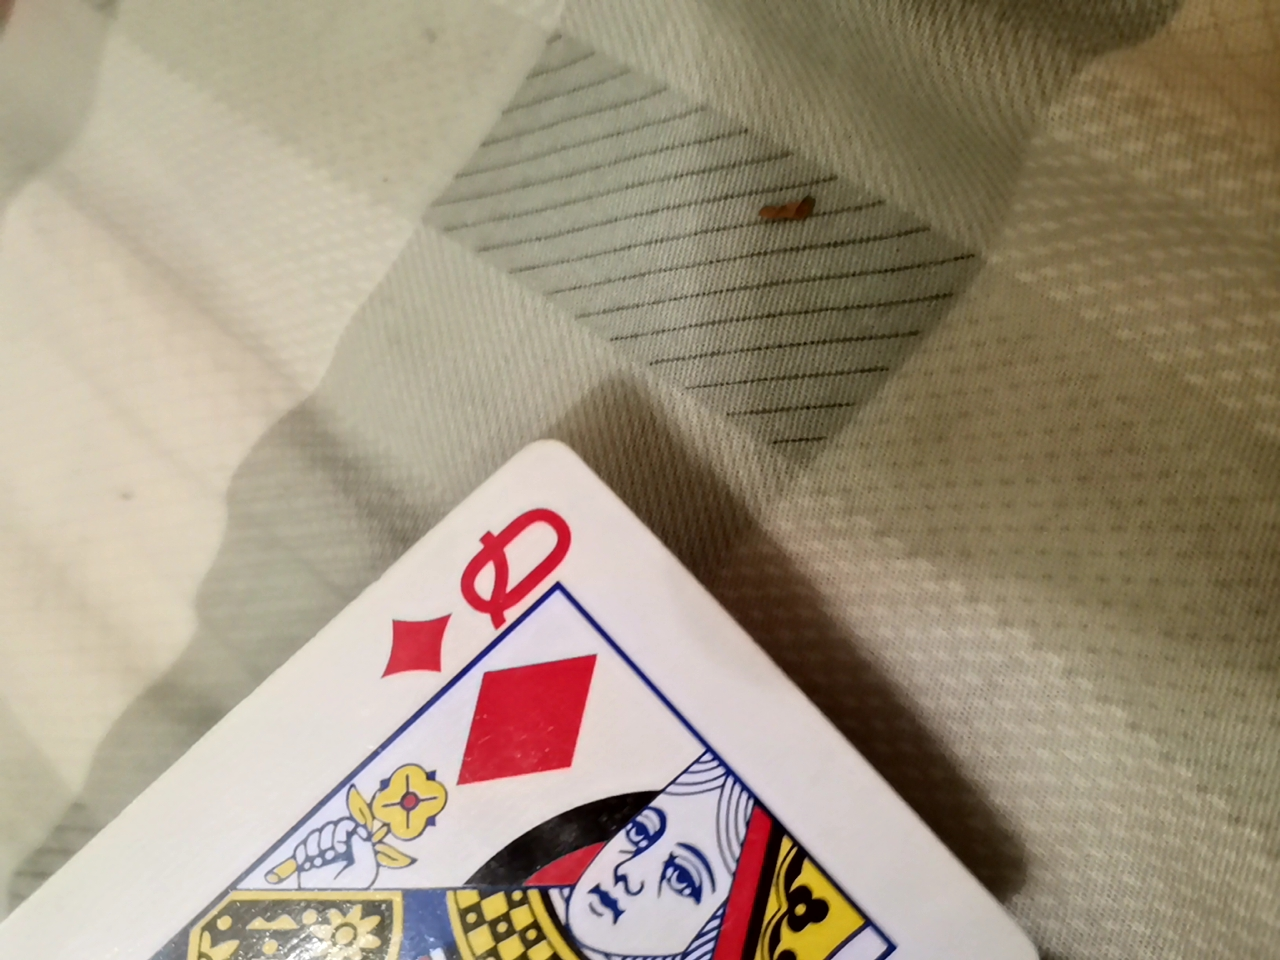fk q: (15, 445, 1127, 960)
